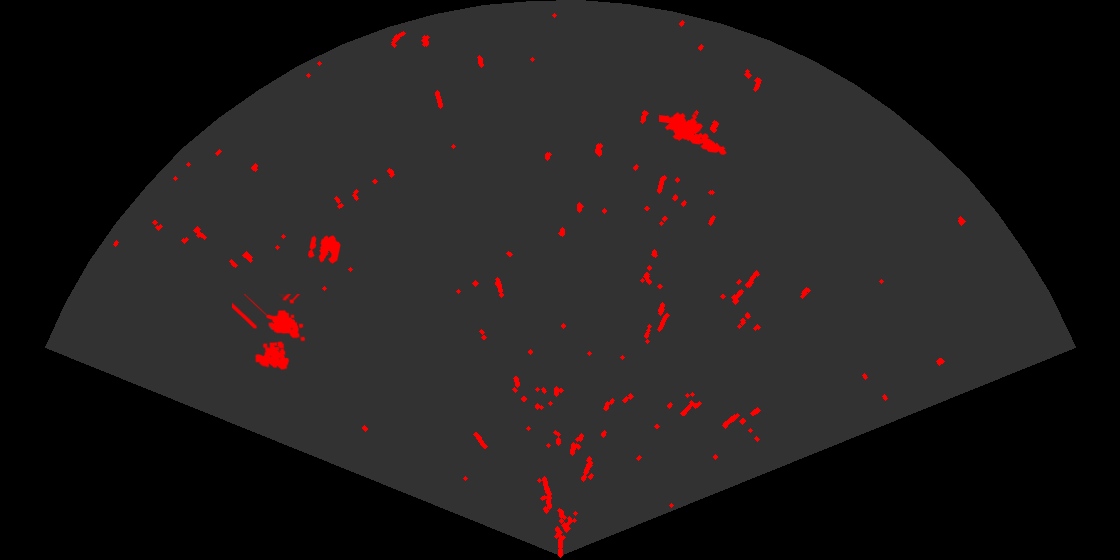ball: (306, 234, 342, 265)
cage: (232, 294, 307, 372)
frogman: (659, 111, 728, 157)
